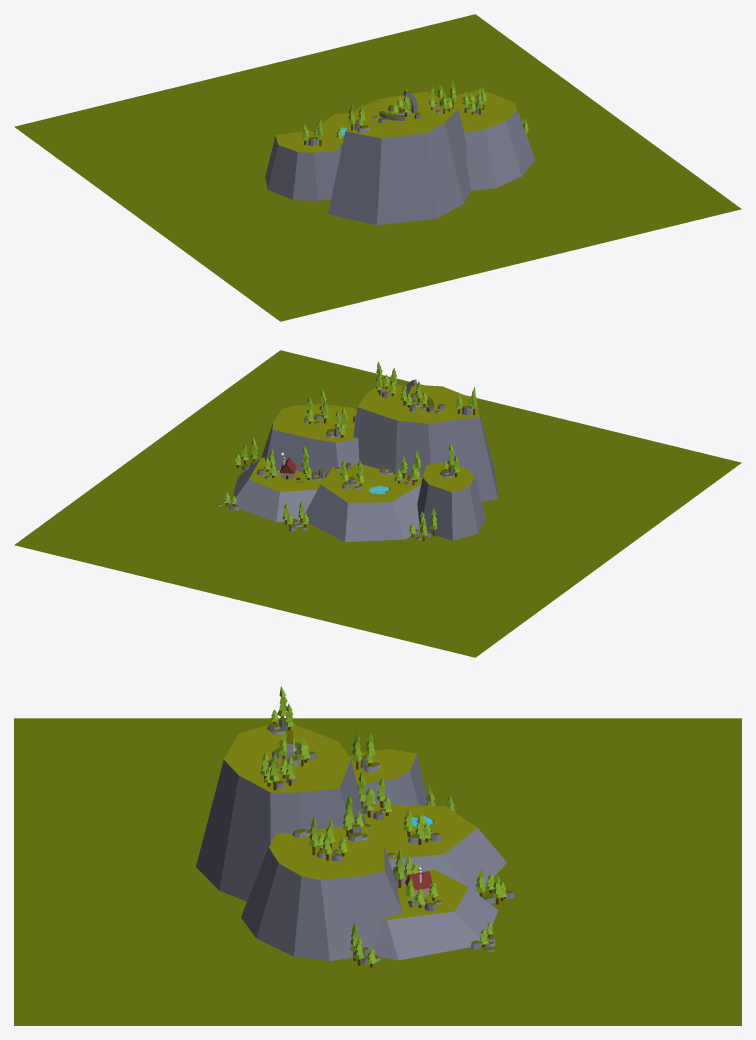
Rendered from LowPolyWorld2.fbx.
3 renders of one model, top to bottom at view 1: azimuth 30°, elevation 25°; view 2: azimuth 150°, elevation 25°; view 3: azimuth 270°, elevation 25°, orthographic. The views are drawn at different scales.
Parts seen in each view (by area): view 1: Plane, Cube.004; view 2: Plane, Cube.004; view 3: Plane, Cube.004.
Part boxes in pixels (x1,y1,x2,y2): Plane: (14,14,741,321); Cube.004: (265,90,535,225); Plane: (14,350,741,657); Cube.004: (231,385,497,541); Plane: (14,718,741,1025); Cube.004: (196,721,506,960).
Bounding box in the file's own units: 1557 × 346 × 1557.
